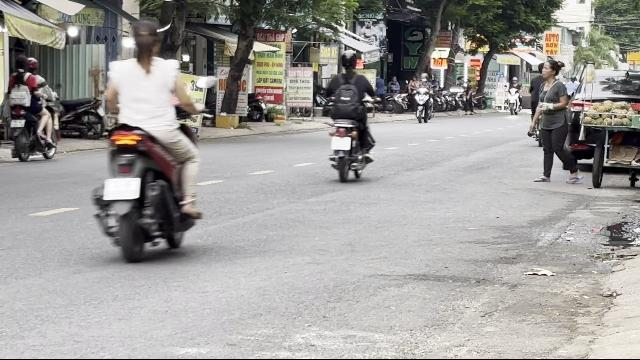helmet: (338, 50, 358, 72), (26, 56, 38, 74)
licenseplate: (104, 178, 140, 198), (331, 136, 351, 150), (10, 120, 26, 128)
motorcyclist: (95, 20, 205, 260), (322, 49, 378, 181), (0, 55, 60, 163)
nohelmet: (128, 19, 160, 60), (12, 56, 28, 74)
